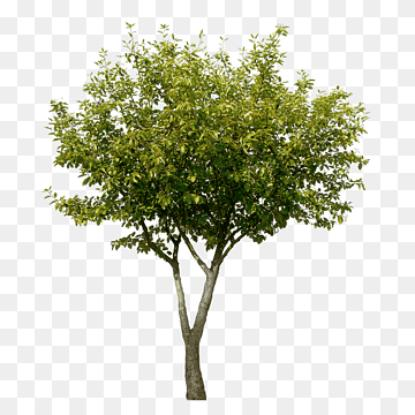tree: (48, 16, 370, 405)
